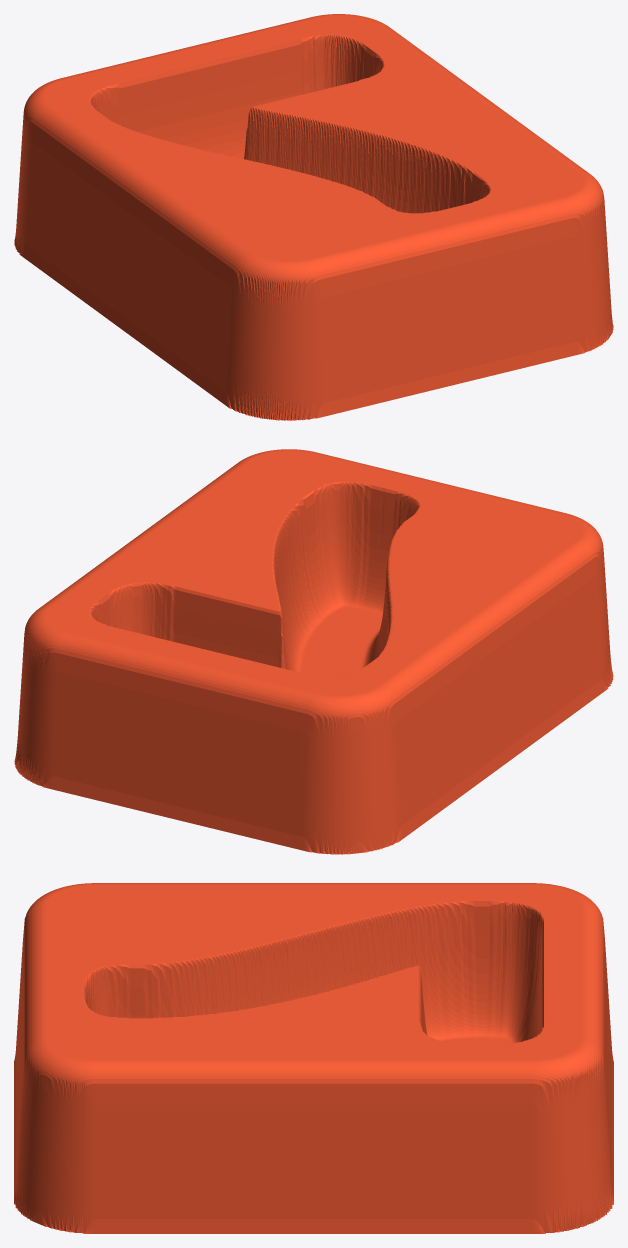
Rendered from mold.glb.
The picture shows the model from 3 angles, top to bottom: view 1: azimuth 30°, elevation 25°; view 2: azimuth 150°, elevation 25°; view 3: azimuth 270°, elevation 25°; orthographic projection. The views are drawn at different scales.
Parts seen in each view (by area): view 1: geometry_0; view 2: geometry_0; view 3: geometry_0.
Part boxes in pixels (x1,y1,x2,y2): geometry_0: (14,14,613,420); geometry_0: (14,449,613,854); geometry_0: (14,883,613,1233).
Size of the model in its own units: 0.0534 by 0.0197 by 0.067.
